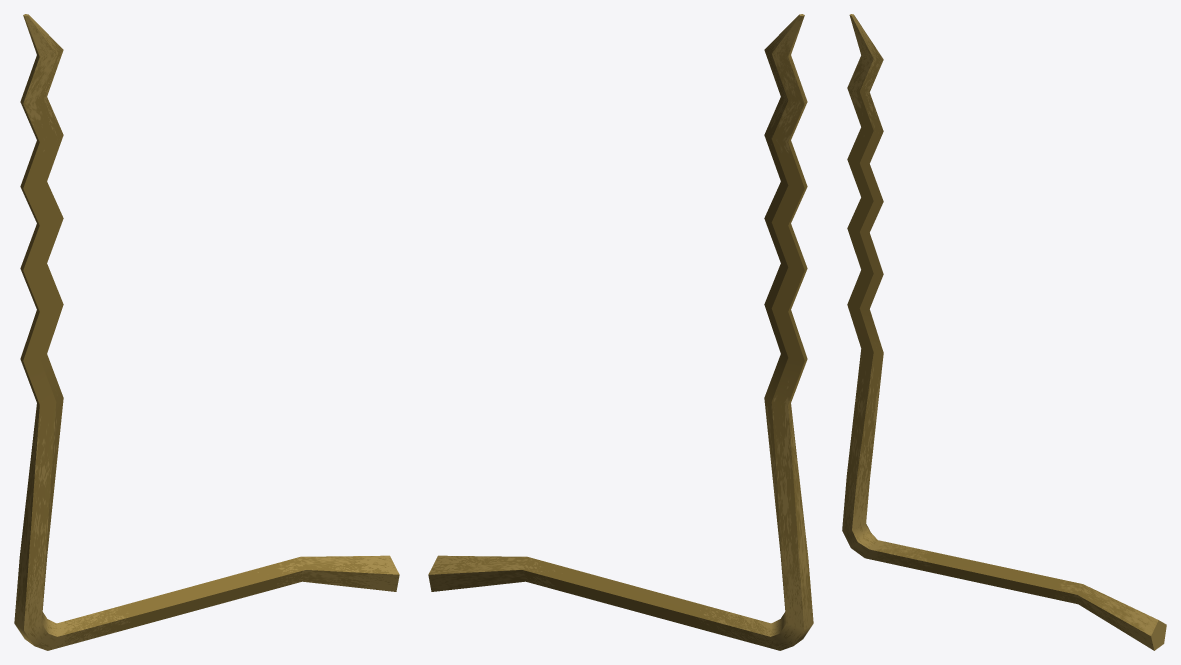
File: Lock_Pick.fbx
3 renders of one model, left to right at view 1: azimuth 30°, elevation 25°; view 2: azimuth 150°, elevation 25°; view 3: azimuth 330°, elevation 25°, orthographic. The views are drawn at different scales.
Parts seen in each view (by area): view 1: Lock_Pick; view 2: Lock_Pick; view 3: Lock_Pick.
Boxes of the visible parts, box(x1,y1,x2,y2) form: Lock_Pick: box(14, 14, 399, 650); Lock_Pick: box(428, 14, 813, 650); Lock_Pick: box(842, 14, 1166, 650).
Size of the model in its own units: 428 by 728 by 37.35.
